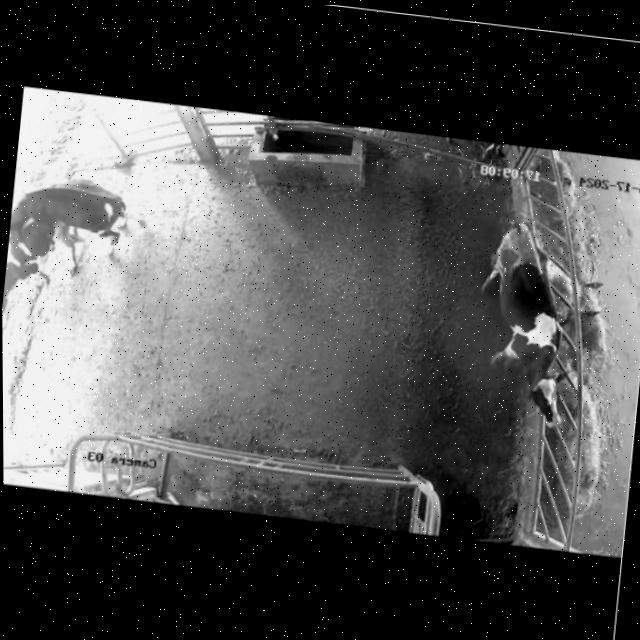ride: (7, 156, 149, 267)
stand: (455, 211, 589, 439), (2, 212, 75, 330)
